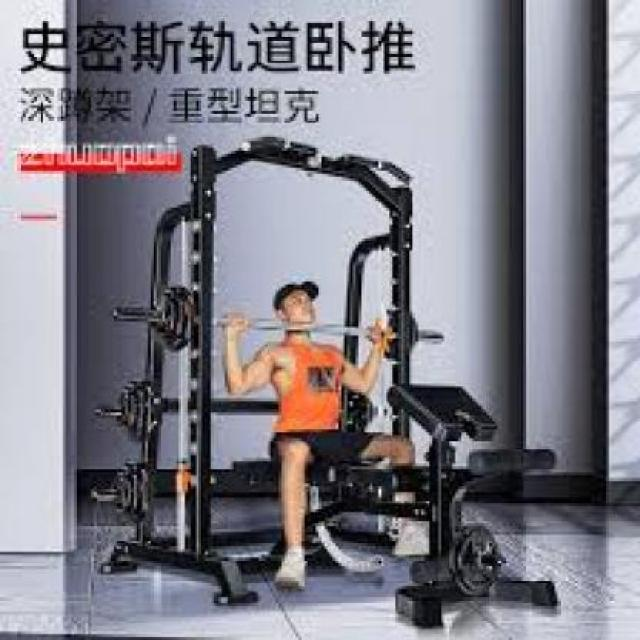smith machine: (152, 132, 448, 630)
